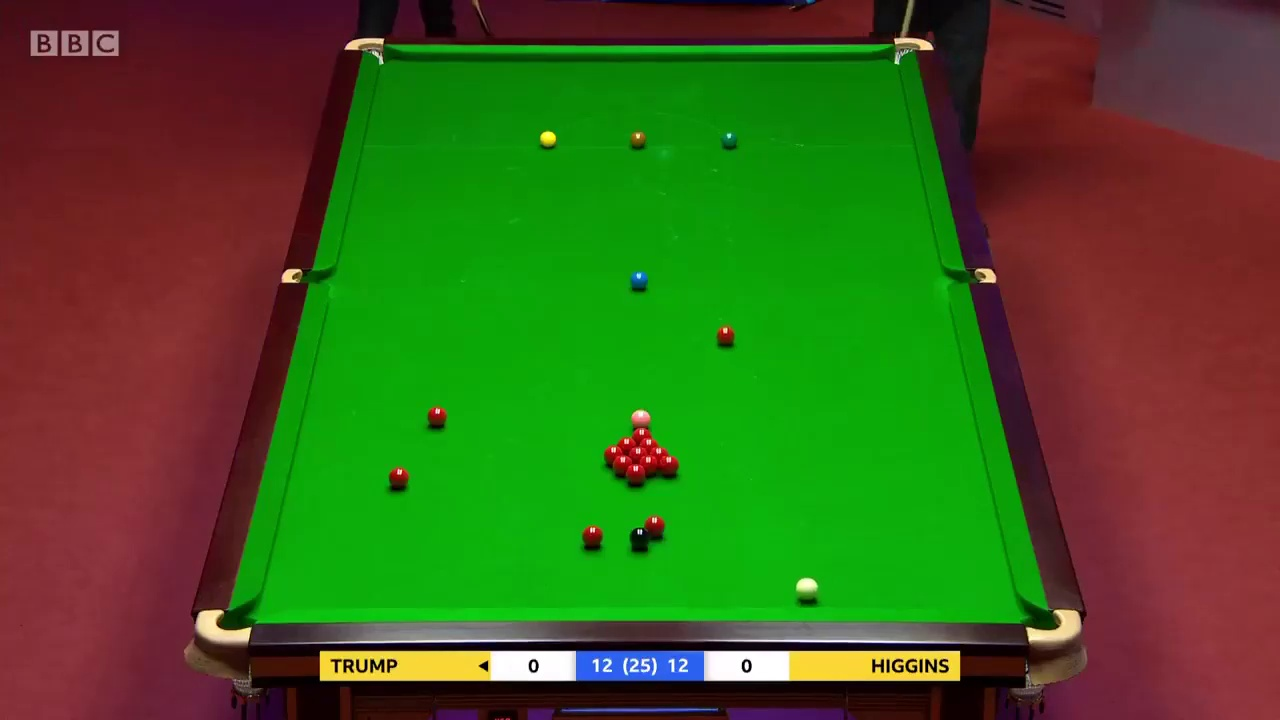black: (629, 531, 648, 545)
blue: (629, 269, 647, 290)
brown: (628, 130, 647, 149)
green: (721, 131, 737, 149)
pink: (632, 407, 649, 427)
red: (389, 464, 409, 489), (623, 463, 646, 484), (425, 406, 446, 428), (583, 525, 602, 547), (645, 516, 664, 535), (663, 456, 679, 475), (717, 326, 732, 346)
white: (793, 578, 820, 602)
yellow: (538, 127, 557, 148)
